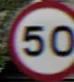Speed limit: (5, 3, 72, 77)
